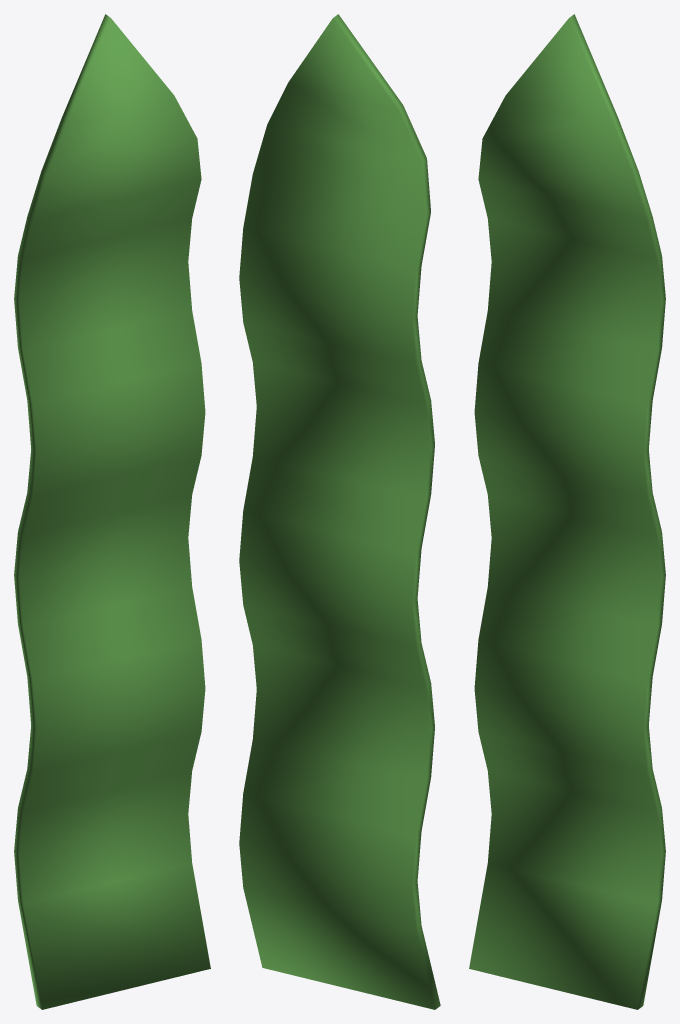
The model's file is seaweed.fbx.
The picture shows the model from 3 angles, left to right: view 1: azimuth 30°, elevation 25°; view 2: azimuth 150°, elevation 25°; view 3: azimuth 330°, elevation 25°; orthographic projection. The views are drawn at different scales.
Parts seen in each view (by area): view 1: Plane.002; view 2: Plane.002; view 3: Plane.002.
Boxes of the visible parts, left/top/right/bottom form: Plane.002: left=14, top=14, right=210, bottom=1009; Plane.002: left=239, top=14, right=440, bottom=1009; Plane.002: left=469, top=14, right=665, bottom=1009.
Size of the model in its own units: 200 by 1087 by 57.9.
